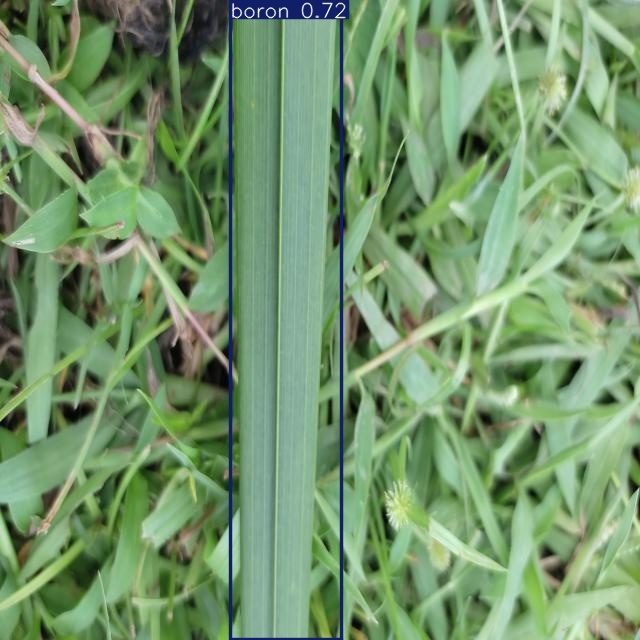nitrogen: (230, 0, 341, 640)
